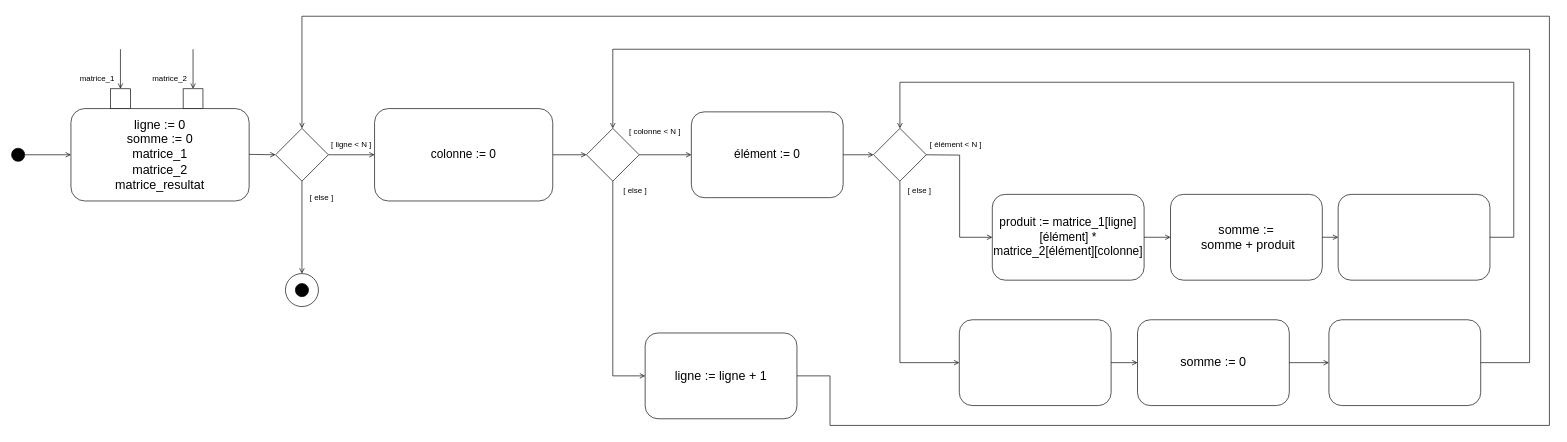
Some shapes in this 1567 by 442 pixel diagram are drawn without their labels. Here are the shapes that lost their labels. From the top down, the box of each, then its label:
(1337, 194, 1490, 280): element := element + 1
(959, 319, 1111, 406): matrice_resultat[ligne][colonne] := somme
(1328, 319, 1481, 406): colonne := colonne + 1
